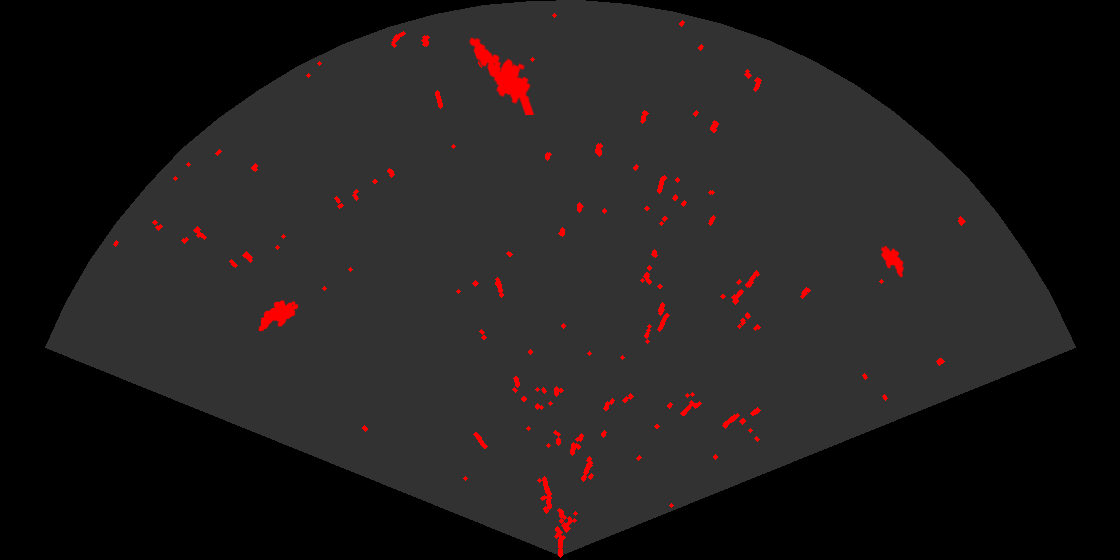AUV: (257, 299, 300, 333), (879, 244, 906, 279)
frogman: (467, 36, 536, 115)
